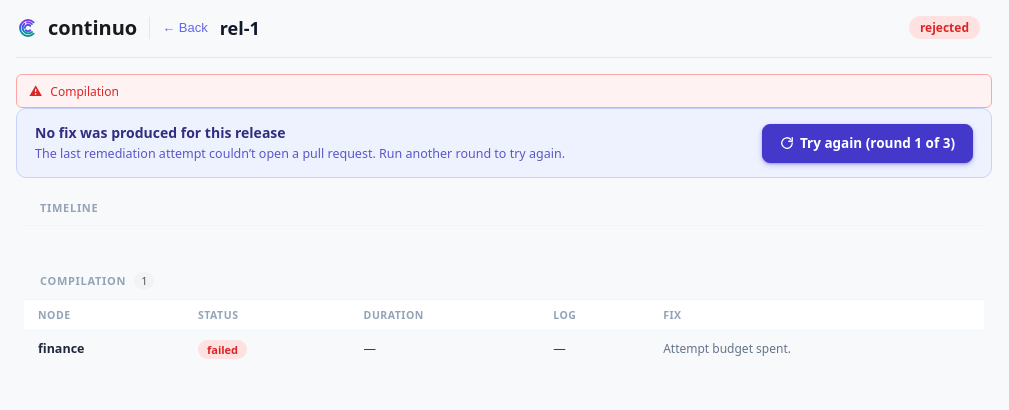
Test: ReleaseDetailPage — retry a dead-end rejected release › shows a link to the open PR when retry answers 409 proposal_open
Click the button "Try again (round 1 of 3)".
click(867, 143)  # box x1=762 y1=124 x2=973 y2=162
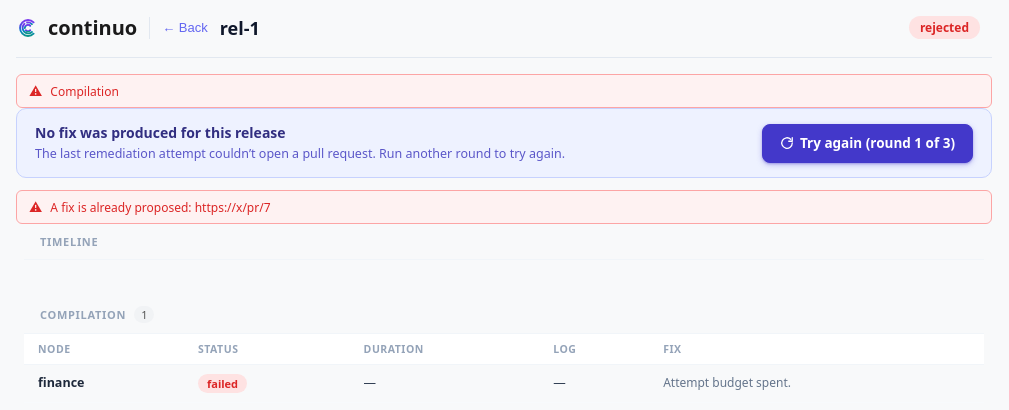
Check: the text "⚠ A fix is already proposed: https://x/pr/7" is shown, box x1=16 y1=190 x2=992 y2=224
